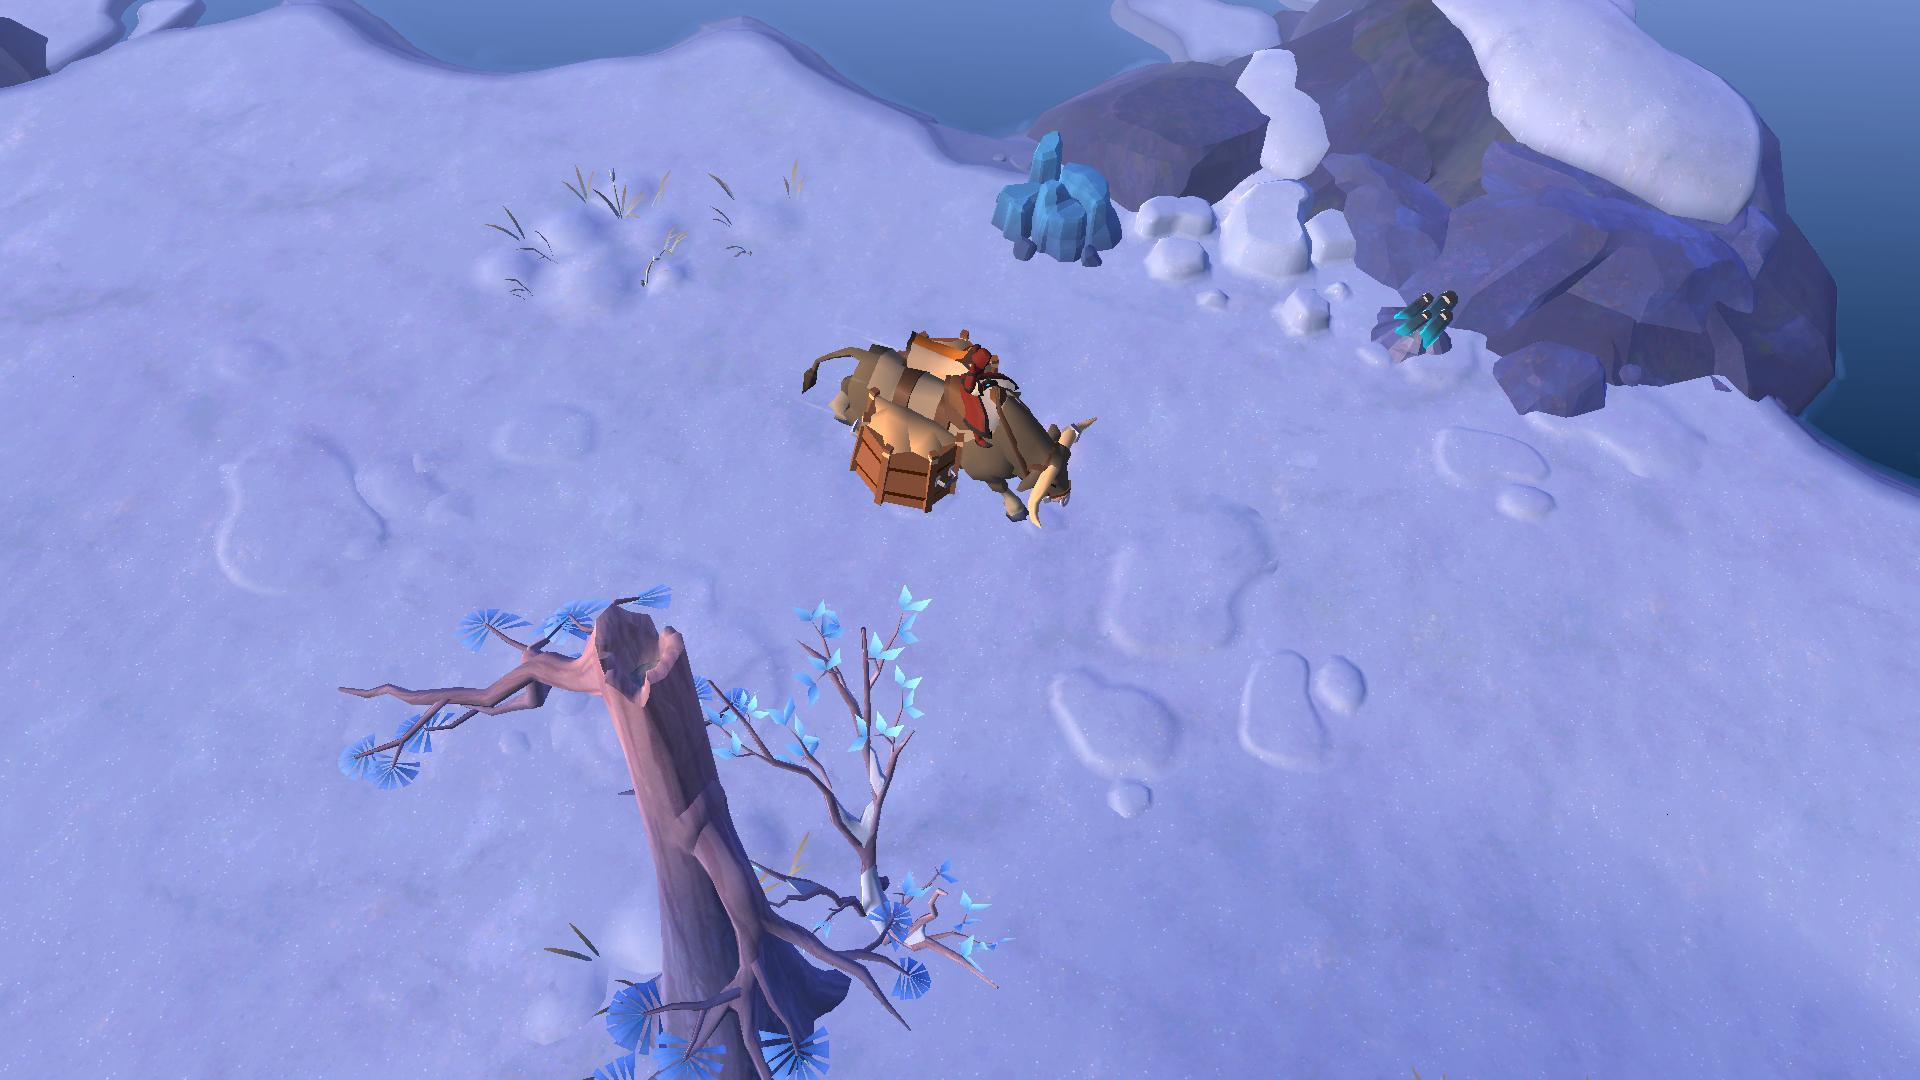ore_t4: (1391, 284, 1468, 352)
rock_t4: (981, 125, 1117, 274)
